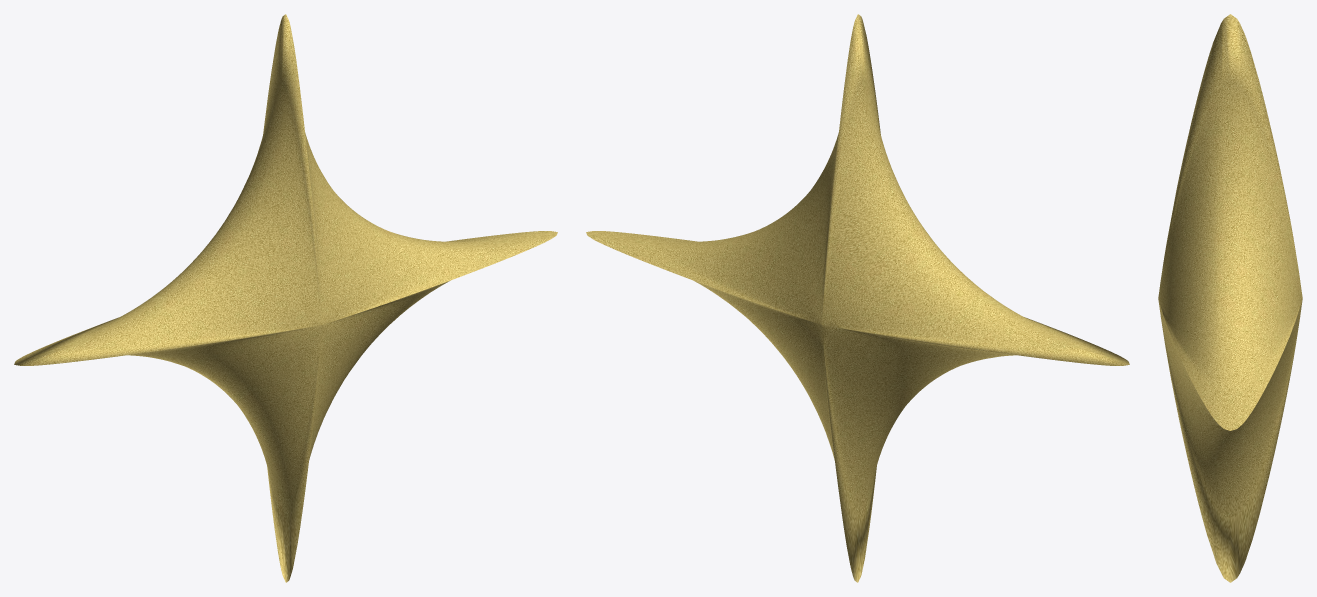
3 views of the same model, side by side, from view 1: azimuth 30°, elevation 25°; view 2: azimuth 150°, elevation 25°; view 3: azimuth 270°, elevation 25° (orthographic).
Visible parts, largest first — view 1: sparkle-star_n3d3; view 2: sparkle-star_n3d3; view 3: sparkle-star_n3d3.
Part boxes in pixels (x1=…): sparkle-star_n3d3: x1=14, y1=14, x2=557, y2=582; sparkle-star_n3d3: x1=586, y1=14, x2=1129, y2=582; sparkle-star_n3d3: x1=1158, y1=14, x2=1302, y2=582.
Size of the model in its own units: 0.0423 by 0.0423 by 0.00974.
1 material, 1 textured.
